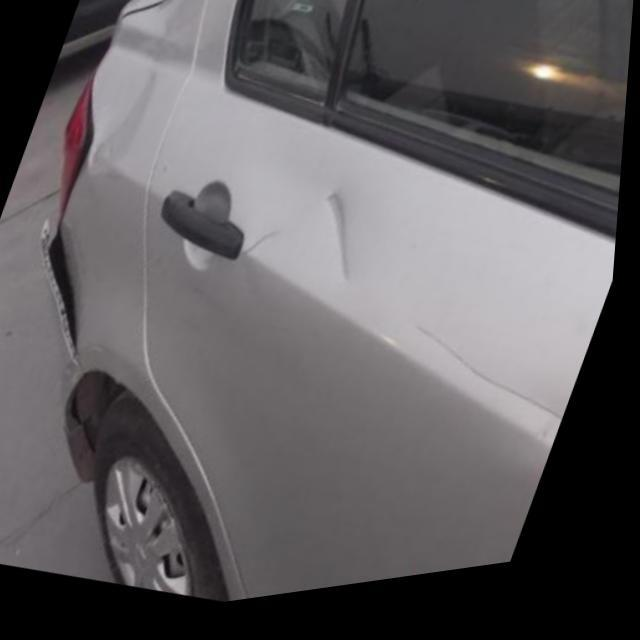dent: (325, 198, 359, 296)
dislocated part: (47, 220, 92, 370)
scratch: (421, 329, 571, 446)
